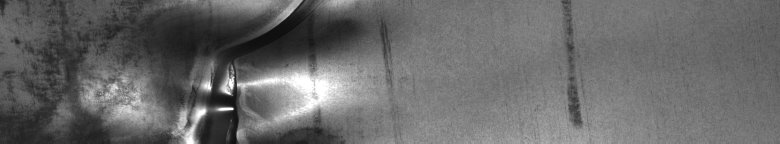ke: (5, 4, 385, 136)
